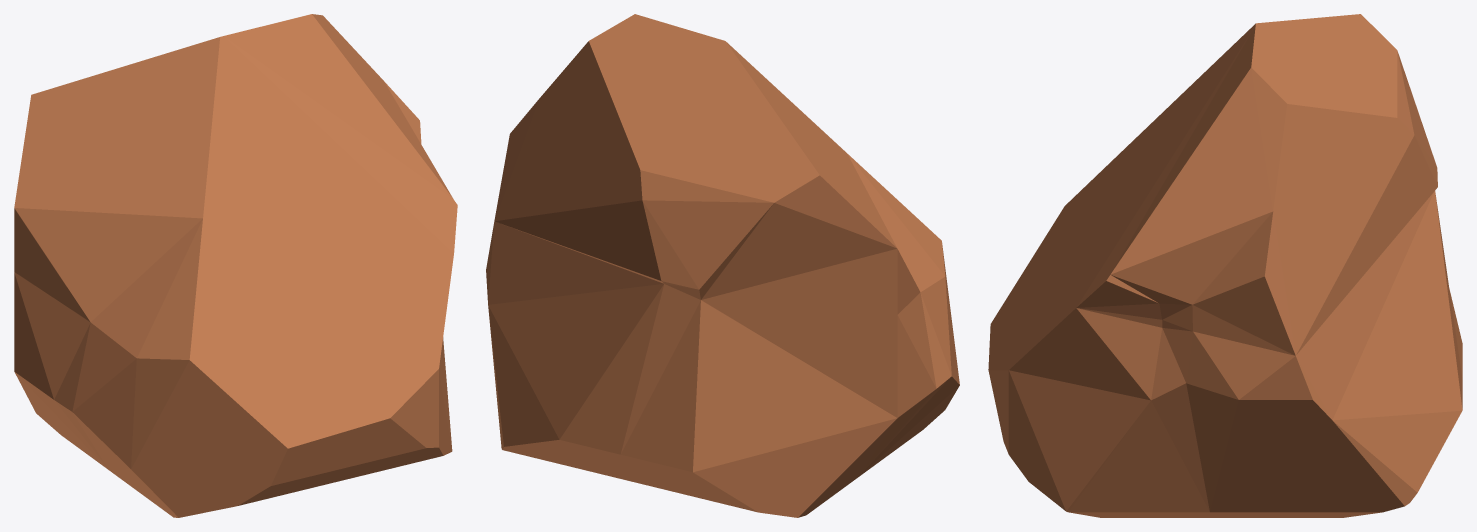
Rendered from Piedra mediana1.fbx.
The picture shows the model from 3 angles, left to right: view 1: azimuth 30°, elevation 25°; view 2: azimuth 150°, elevation 25°; view 3: azimuth 270°, elevation 25°; orthographic projection. The views are drawn at different scales.
Visible parts, largest first — view 1: Piedra 4; view 2: Piedra 4; view 3: Piedra 4.
Part boxes in pixels (left/top/right/bottom): Piedra 4: left=14, top=14, right=457, bottom=517; Piedra 4: left=486, top=14, right=959, bottom=517; Piedra 4: left=988, top=14, right=1462, bottom=517.
Bounding box in the file's own units: 3.91 × 3.85 × 3.83.
